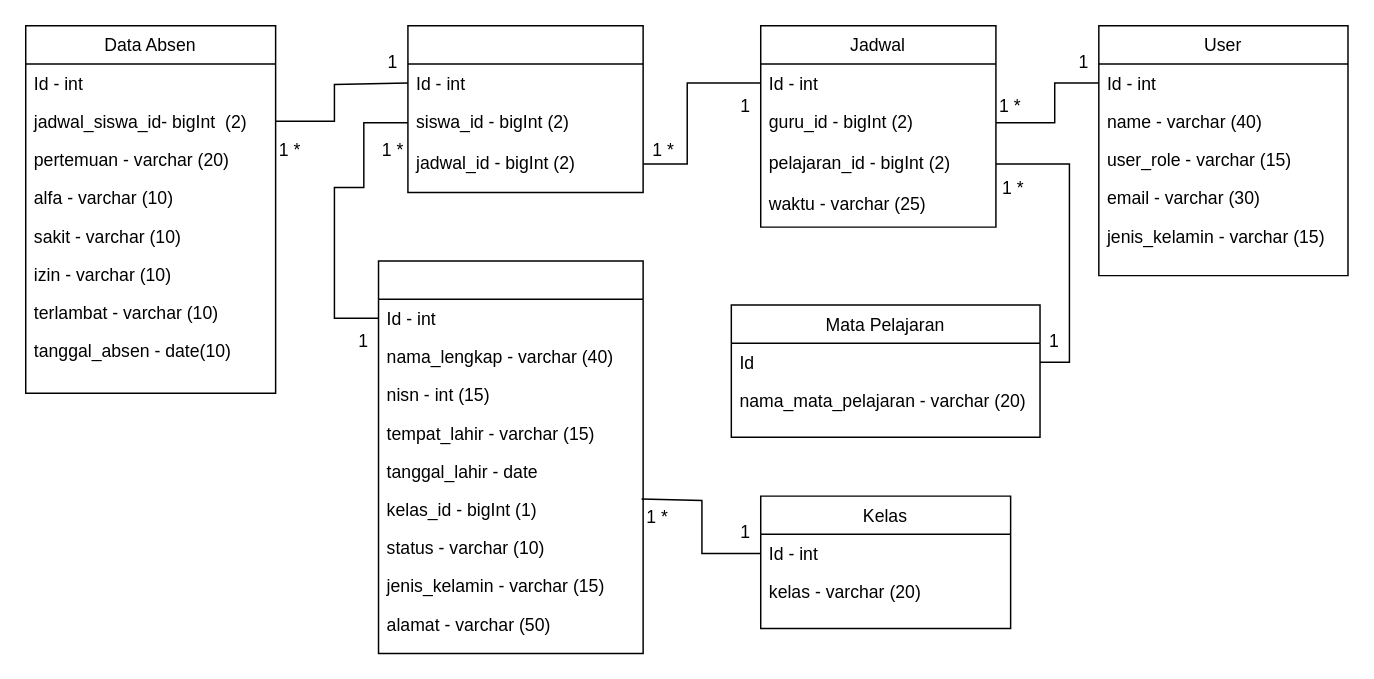
This 1374x679 diagram has some shape labels left out. The shapes that lost their labels are listed below. From the top down, each one's box as (x1, y1, x2, y2) in pixels, then its label:
(406, 24, 643, 193): Jadwal_siswa
(377, 259, 643, 653): Siswa
